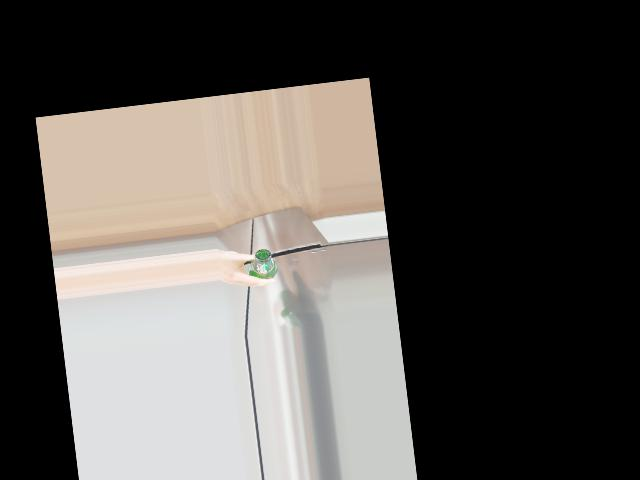beer: (246, 247, 278, 280)
